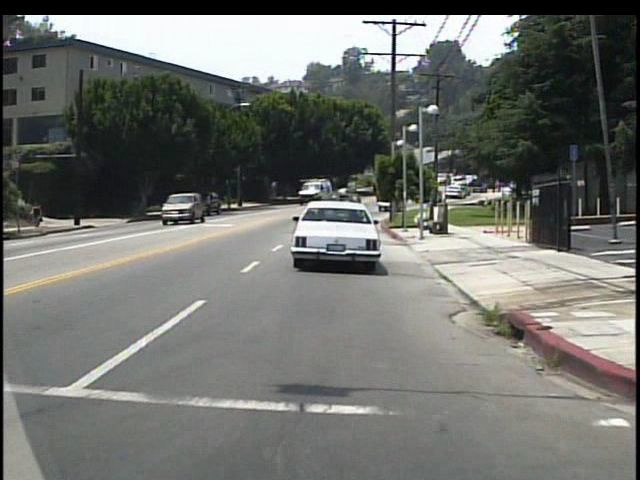person: (34, 198, 46, 229)
